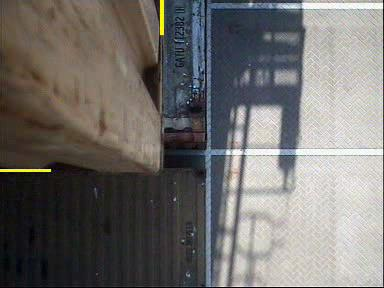groundmarker_2: (188, 5, 247, 99)
